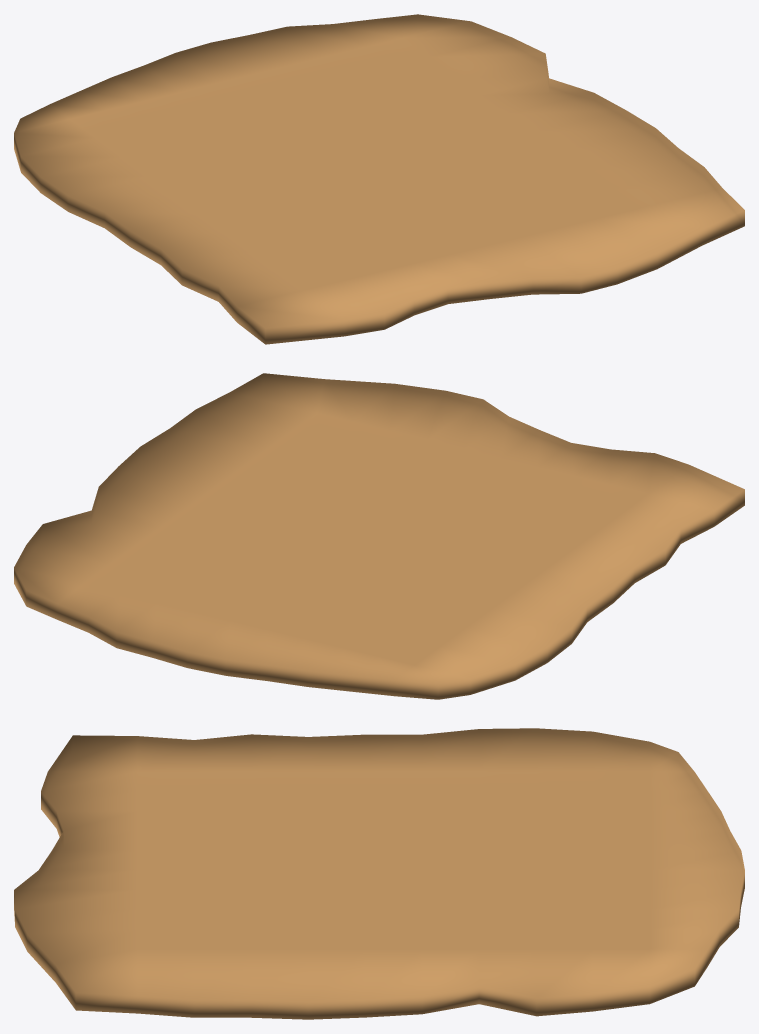
File: Peanut butter slather.fbx
3 views of the same model, one above another, from view 1: azimuth 30°, elevation 25°; view 2: azimuth 150°, elevation 25°; view 3: azimuth 270°, elevation 25° (orthographic). The views are drawn at different scales.
Visible parts, largest first — view 1: Plane.001; view 2: Plane.001; view 3: Plane.001.
Part boxes in pixels (x1,y1,x2,y2): Plane.001: [14, 14, 744, 344]; Plane.001: [14, 373, 744, 699]; Plane.001: [14, 728, 744, 1019].
Size of the model in its own units: 88.24 by 2.67 by 99.63.
1 material, 1 textured.
